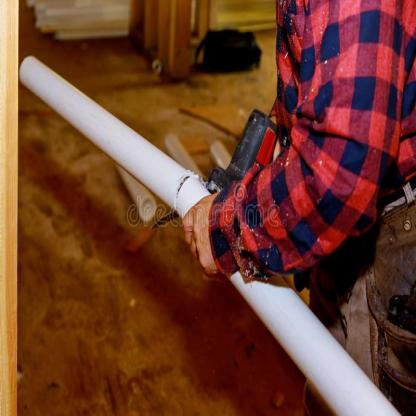PVC: (19, 53, 194, 211), (232, 275, 398, 415), (179, 178, 211, 217)
